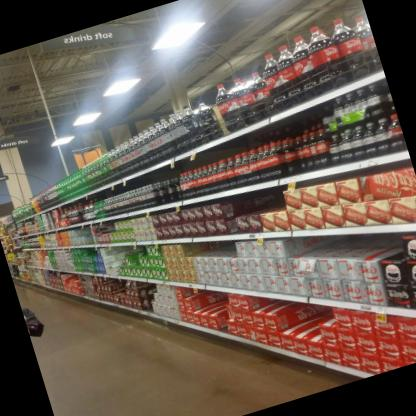empty_space: (210, 96, 228, 139)
